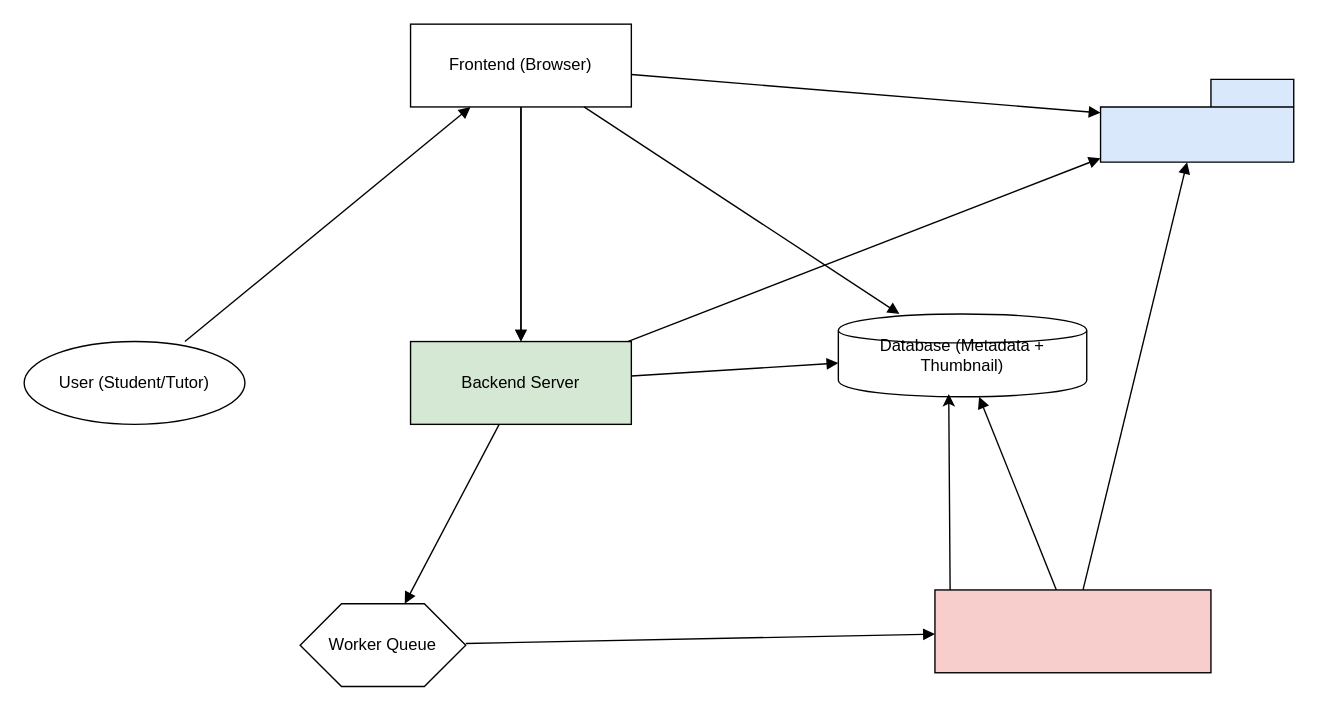
The diagram is 1318 pixels wide and 711 high, and some of its shapes have lost their labels. Here are the shapes that lost their labels. From the top down, the box of each, then its label:
(1099, 78, 1294, 162): AWS S3
(934, 589, 1211, 673): Thumbnail Generator Worker
